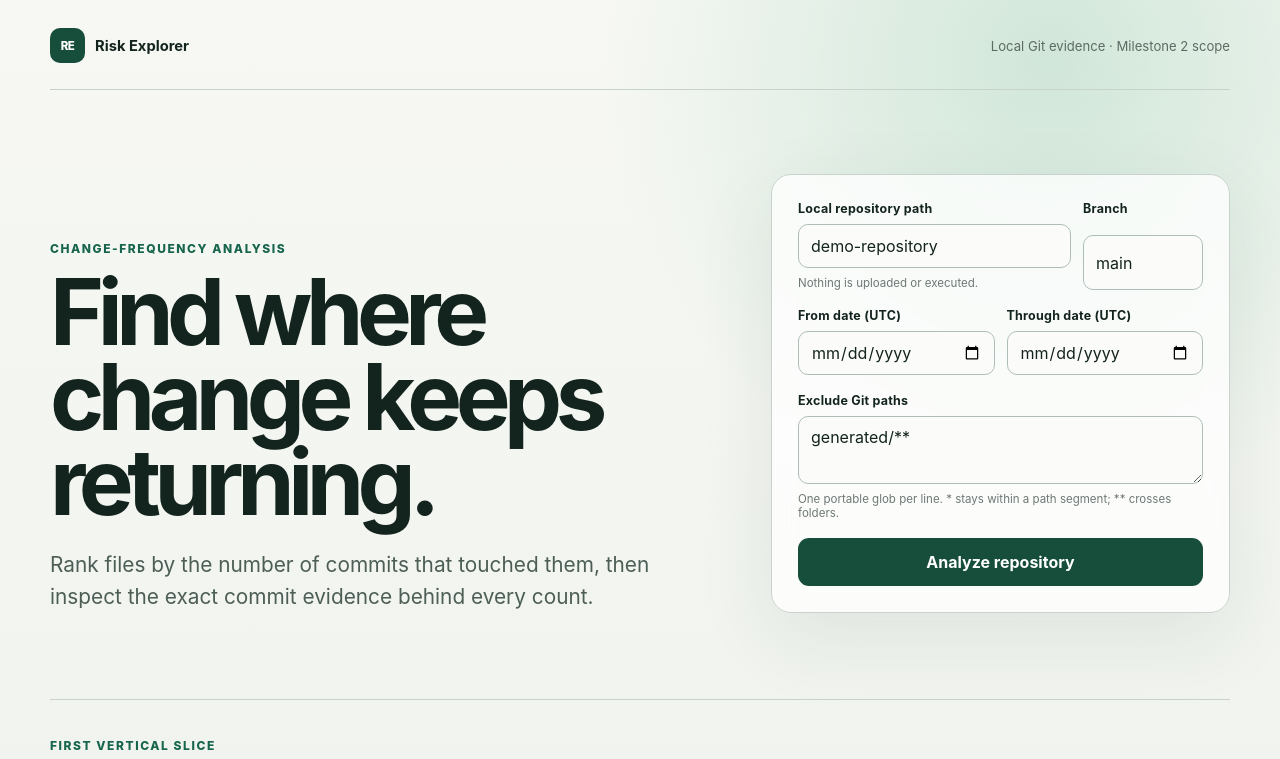
Test case: App › shows the API problem detail when analysis fails
Step 1. Click the button "Analyze repository" → (1000, 562), box [798,538,1203,586]
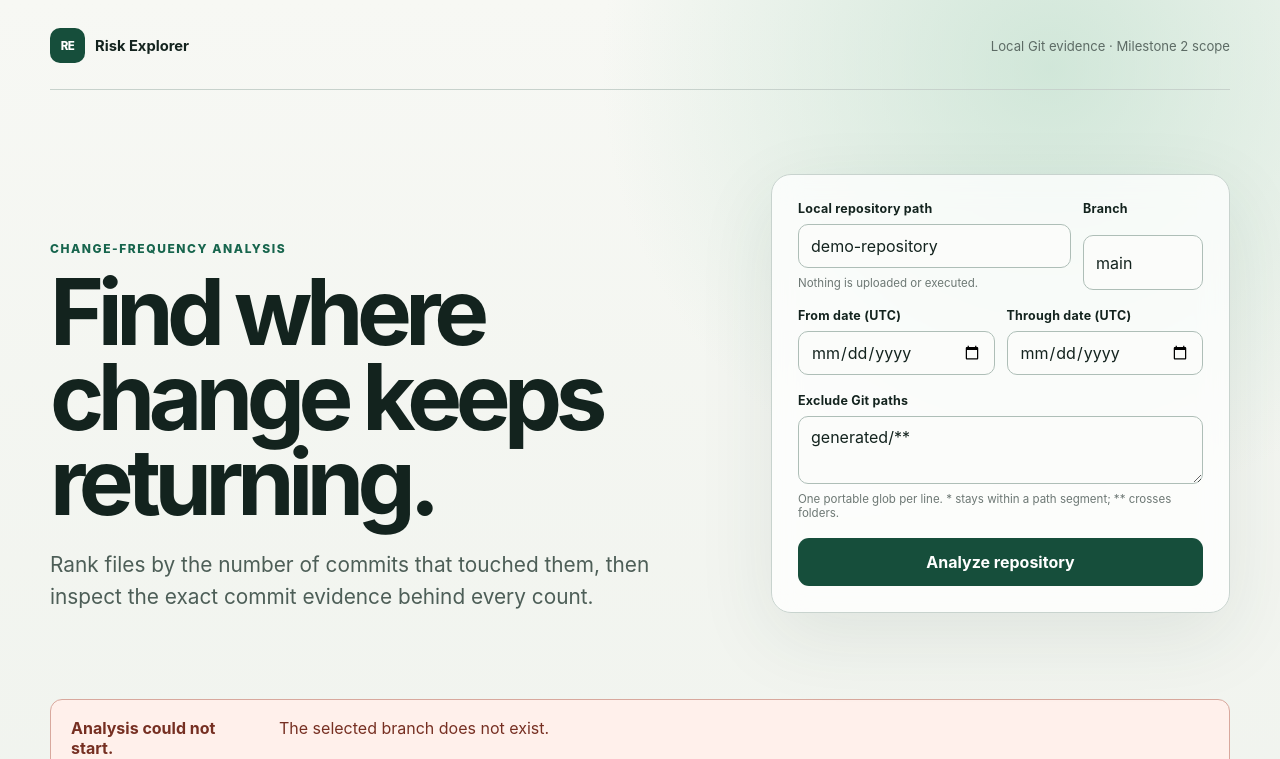
Result: the message shows "The selected branch does not exist." at [279,718,549,738]
